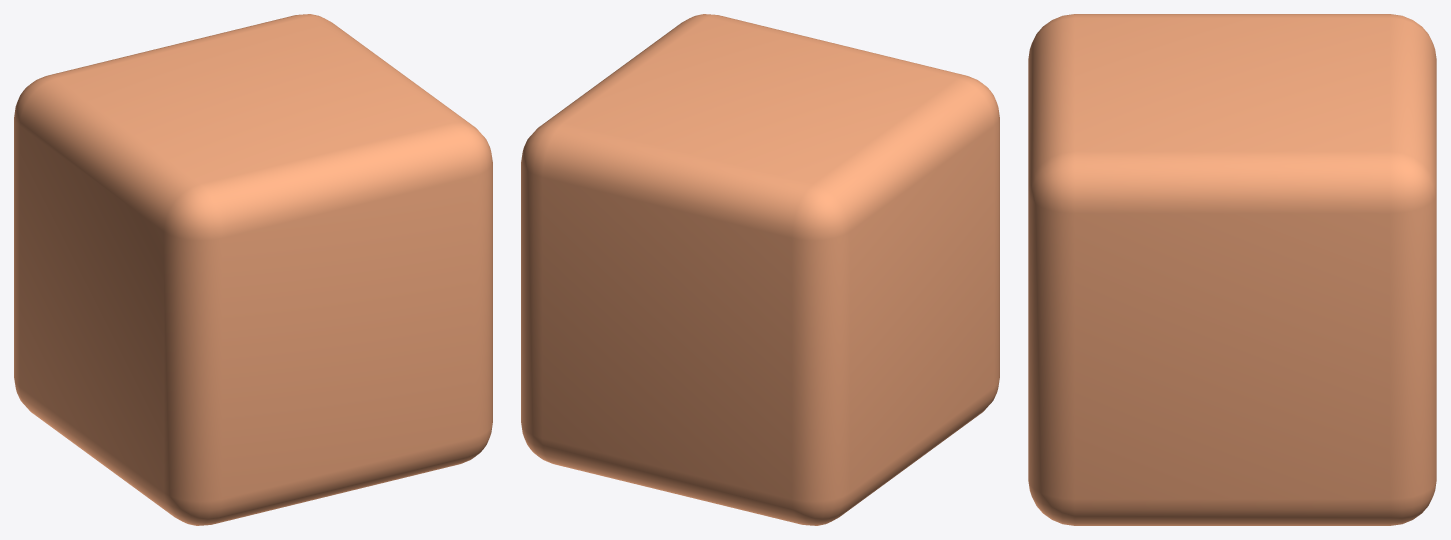
File: beveled_cube.glb
3 views of the same model, side by side, from view 1: azimuth 30°, elevation 25°; view 2: azimuth 150°, elevation 25°; view 3: azimuth 270°, elevation 25° (orthographic). The views are drawn at different scales.
Parts seen in each view (by area): view 1: Cube; view 2: Cube; view 3: Cube.
Part boxes in pixels (left/top/right/bottom): Cube: left=14, top=14, right=492, bottom=525; Cube: left=521, top=14, right=999, bottom=525; Cube: left=1028, top=14, right=1436, bottom=525.
Bounding box in the file's own units: 1.4 × 1.4 × 1.4.
